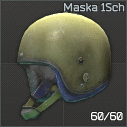Maska-1Shch bulletproof helmet Killa: (0, 0, 127, 127)
